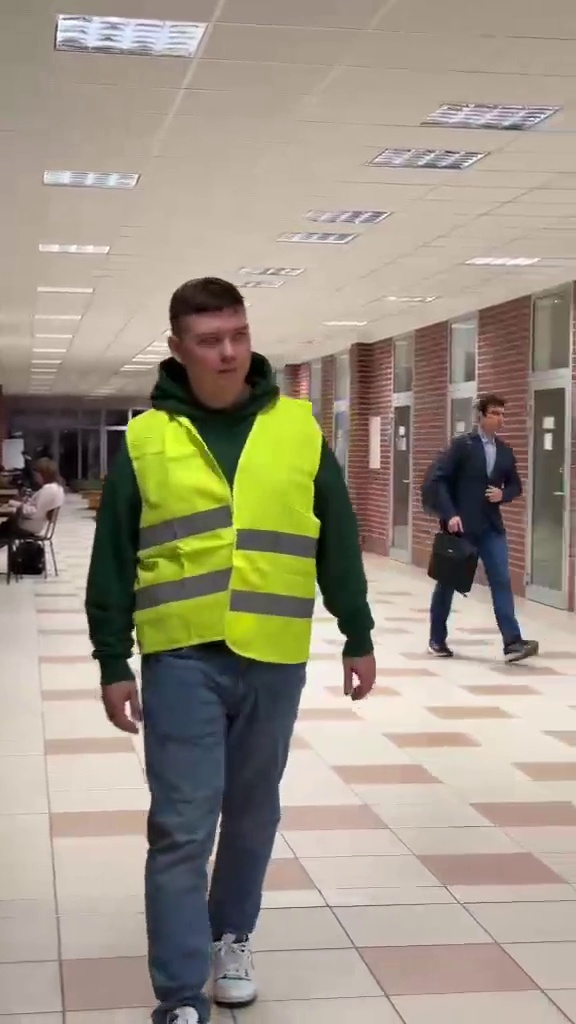no vest: (414, 389, 539, 669), (0, 459, 74, 576)
vest: (89, 274, 381, 1014)
